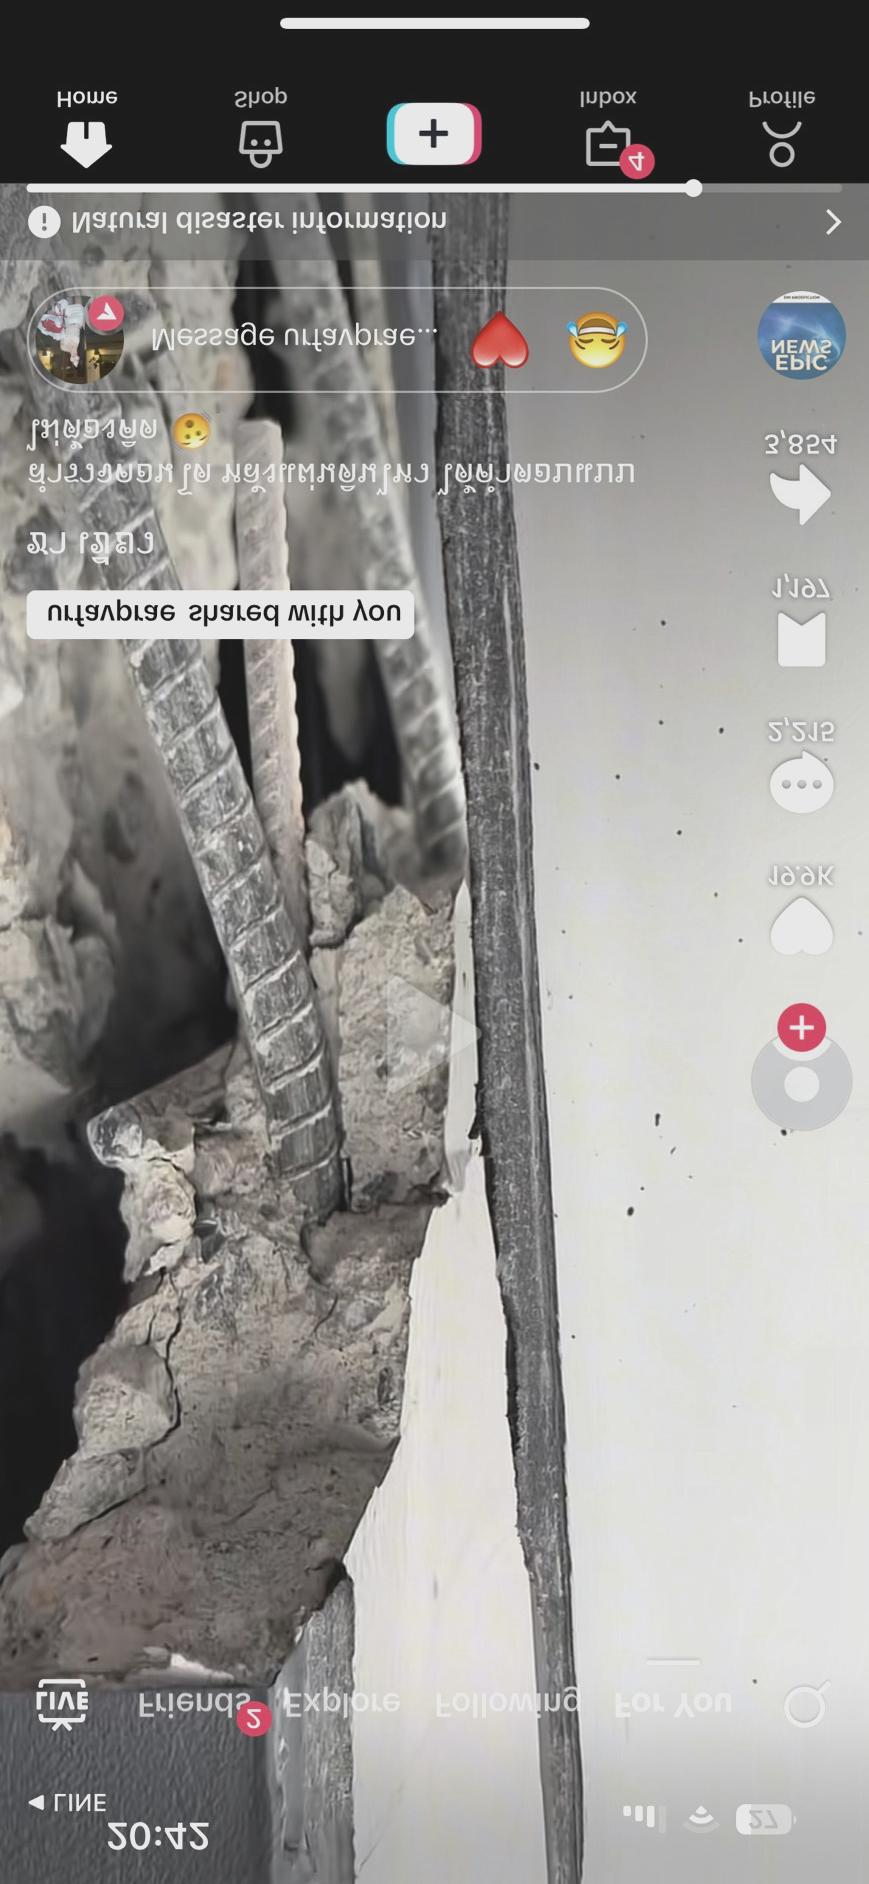High: (5, 640, 620, 1683)
